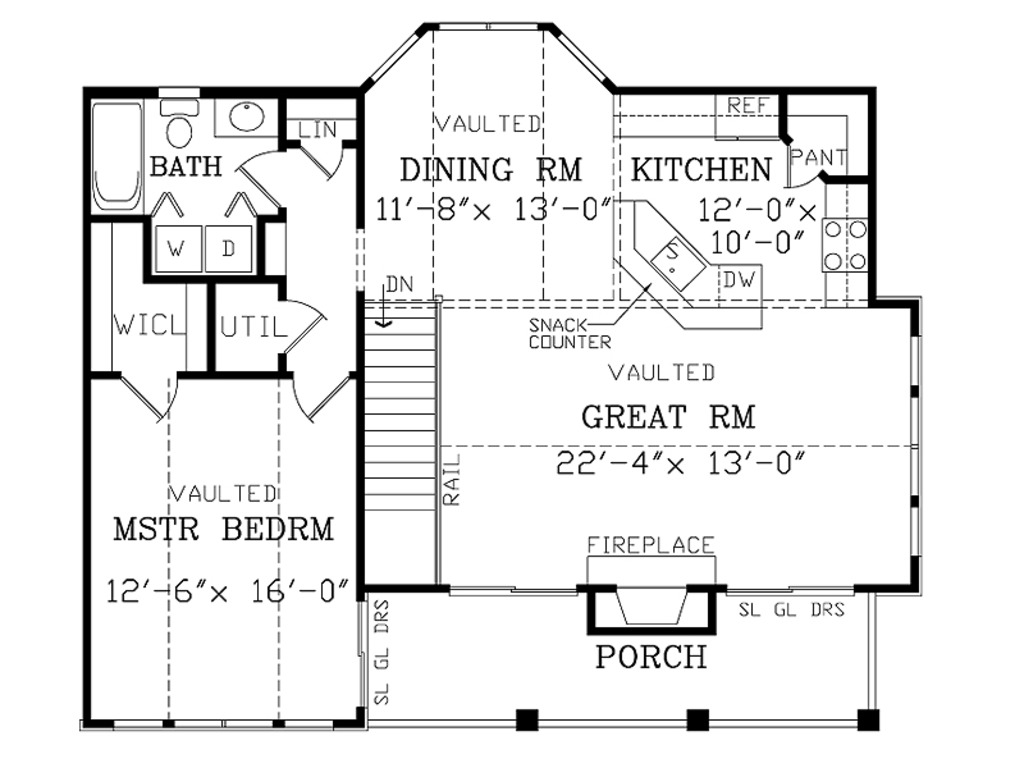door: (118, 370, 183, 427), (288, 370, 354, 422), (231, 150, 285, 212), (782, 143, 831, 200), (281, 292, 325, 354), (298, 133, 336, 178)
kitchen_bar: (612, 186, 771, 332)
large_sink: (150, 92, 204, 155)
small_sink: (205, 100, 278, 142)
stairs: (360, 284, 448, 586)
tub: (82, 97, 153, 218)
window: (364, 25, 428, 89), (553, 25, 609, 89), (439, 16, 538, 39)
